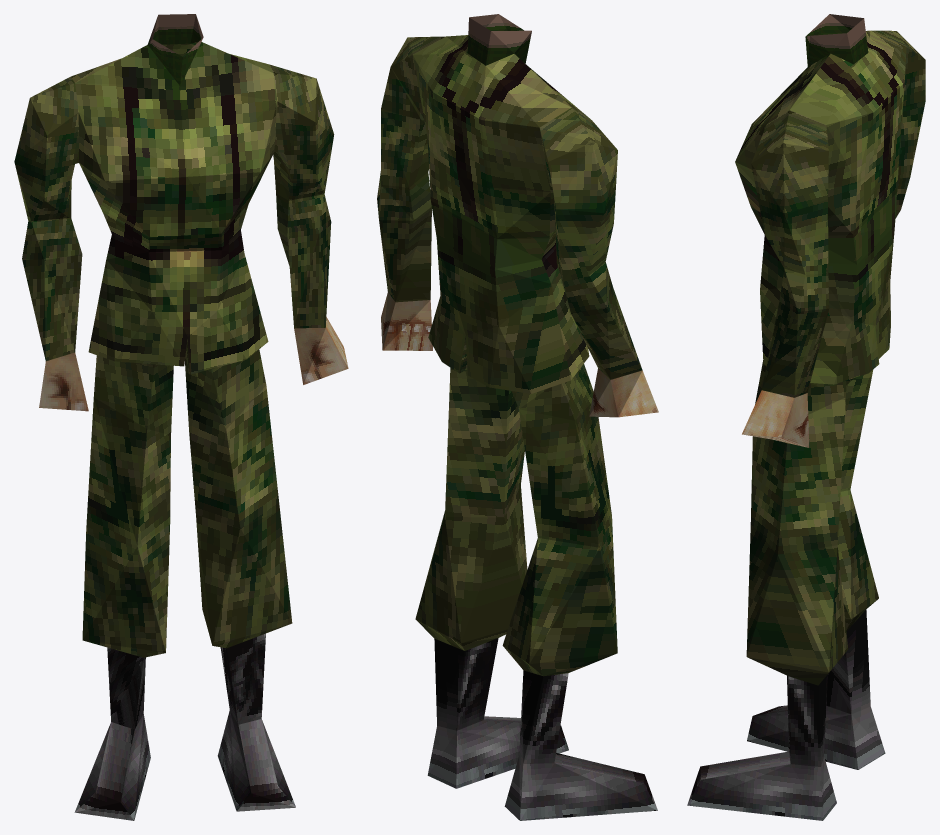
The model's file is primary_015.glb.
The picture shows the model from 3 angles, left to right: view 1: azimuth 30°, elevation 25°; view 2: azimuth 150°, elevation 25°; view 3: azimuth 270°, elevation 25°; orthographic projection. The views are drawn at different scales.
Visible parts, largest first — view 1: Object; view 2: Object; view 3: Object.
Boxes of the visible parts, x1,y1,x2,y2 form: Object: (14,14,348,820); Object: (377,14,658,820); Object: (687,14,925,820).
Size of the model in its own units: 0.7315 by 1.83 by 0.5174.
Materials: 85 (85 with a texture image).
